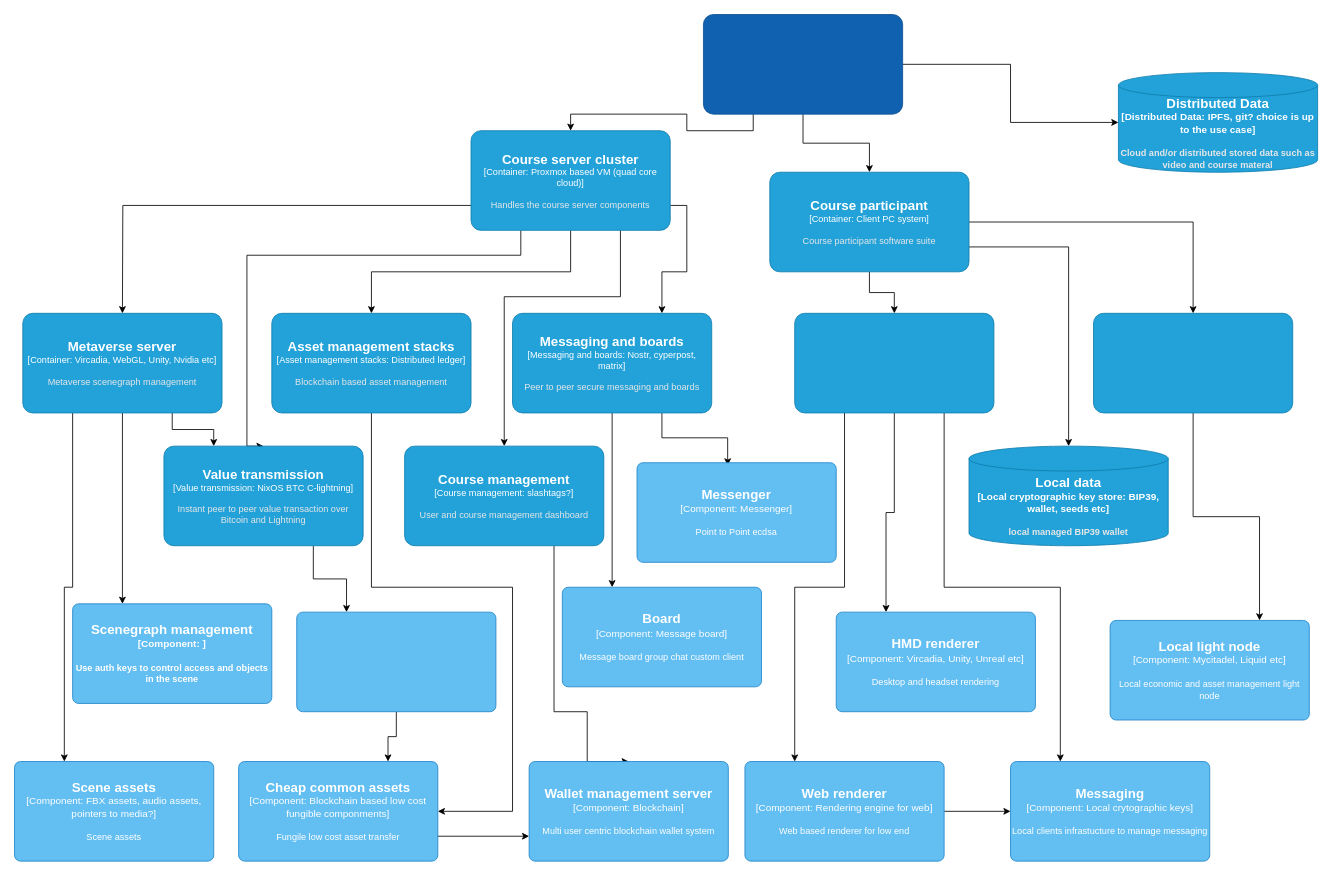
Image size: 1332x876. Some labels were removed from this diagram. The shapes that lost their labels are listed below. From the top down, each one's centre as x and y in pixels, then its label:
At (x=803, y=64): "Global courses in XR [Software system] global stacks of opensource tools".
At (x=894, y=362): "Renderer [Client: WebXR, Vircadia, WebM, Wolvin] Metaverse display client".
At (x=1193, y=362): "Node [Light node: Blockchain light node] Blockchain interaction software".
At (x=396, y=661): "Value [Component: blockchain based systems] Value transmission core stack".
